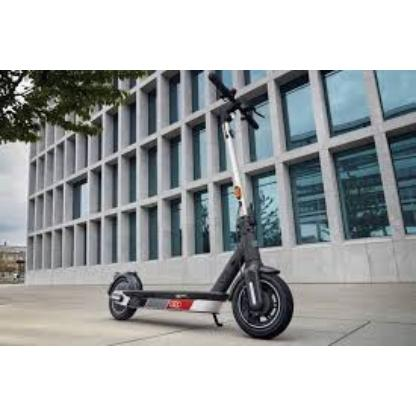bike: (105, 75, 295, 340), (107, 184, 294, 341)
